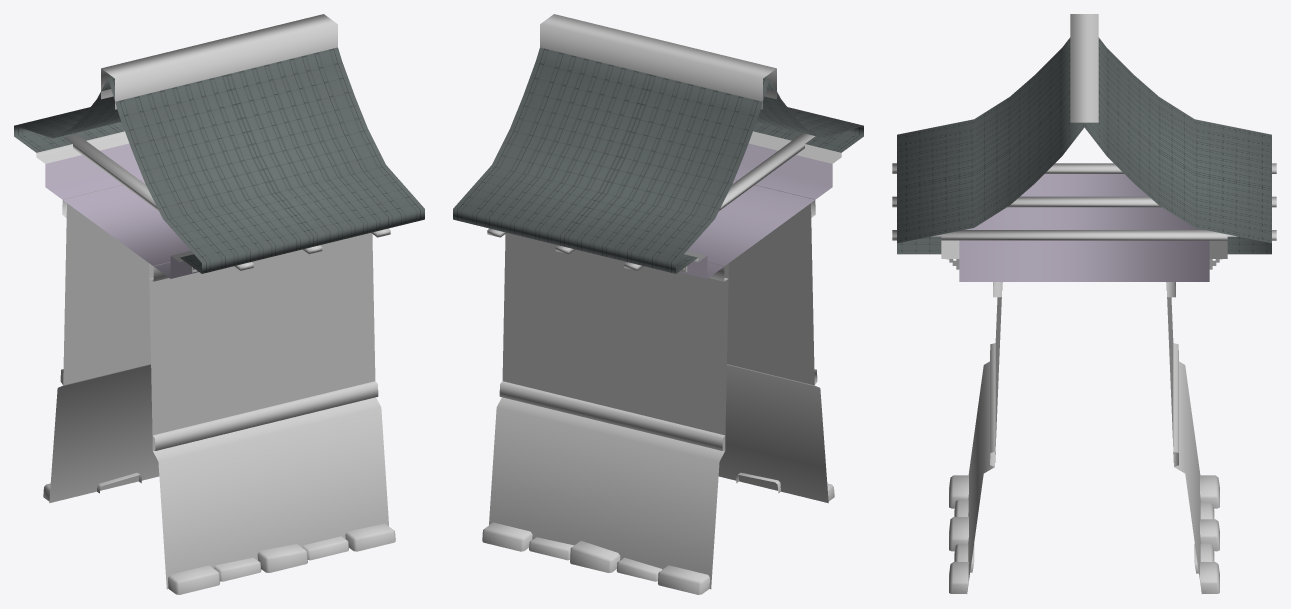
The model's file is Wall_1_1.fbx.
The picture shows the model from 3 angles, left to right: view 1: azimuth 30°, elevation 25°; view 2: azimuth 150°, elevation 25°; view 3: azimuth 270°, elevation 25°; orthographic projection.
Parts seen in each view (by area): view 1: Wall_1_1; view 2: Wall_1_1; view 3: Wall_1_1.
Boxes of the visible parts, box(x1,y1,x2,y2) form: Wall_1_1: box(14, 14, 424, 594); Wall_1_1: box(453, 14, 863, 594); Wall_1_1: box(892, 14, 1276, 593).
Bounding box in the file's own units: 4 × 8.12 × 5.98.
